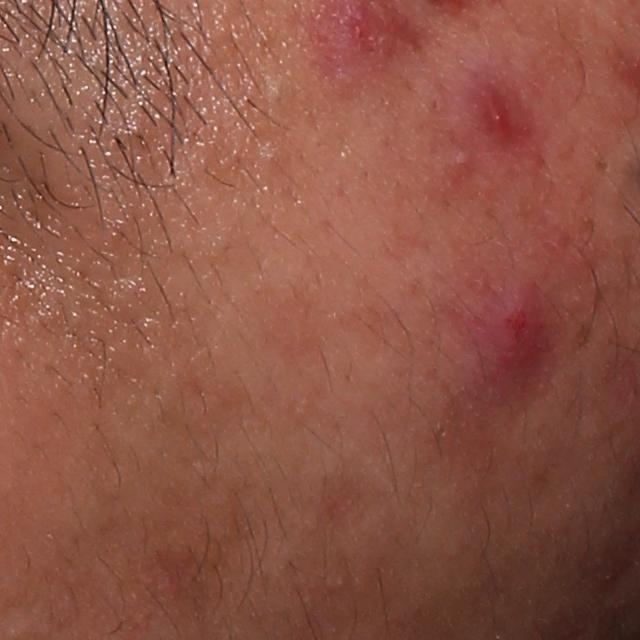papule: (464, 282, 561, 397), (461, 71, 522, 149), (437, 139, 476, 181)
